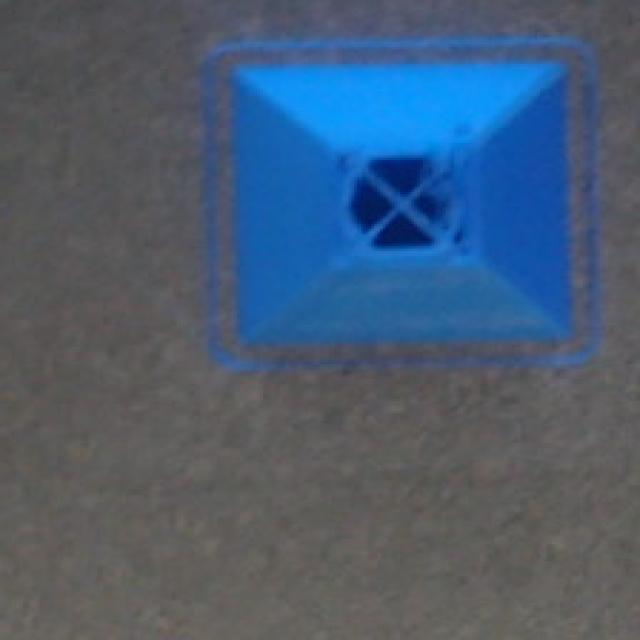mistake: (203, 39, 597, 367)
